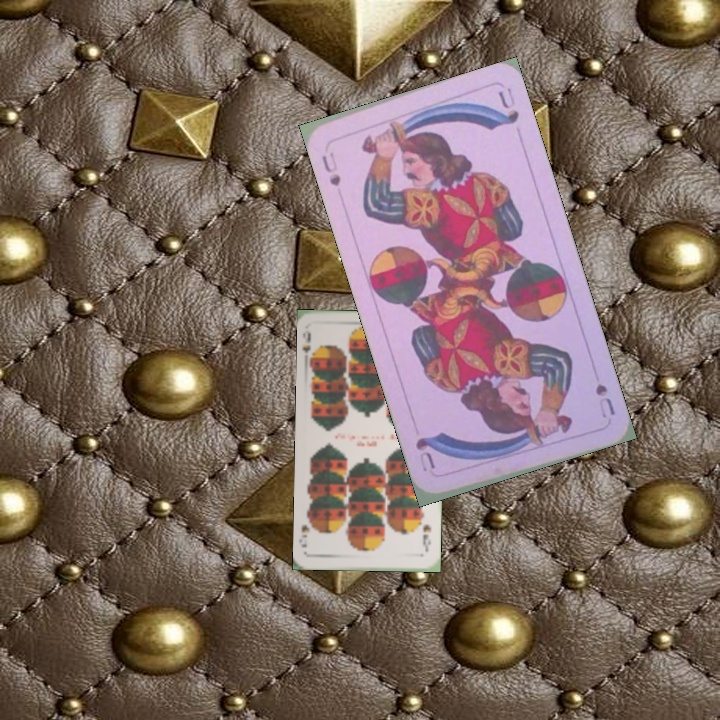S9: (299, 328, 319, 365), (419, 521, 434, 554)
SU: (591, 379, 618, 421), (317, 151, 344, 189)
